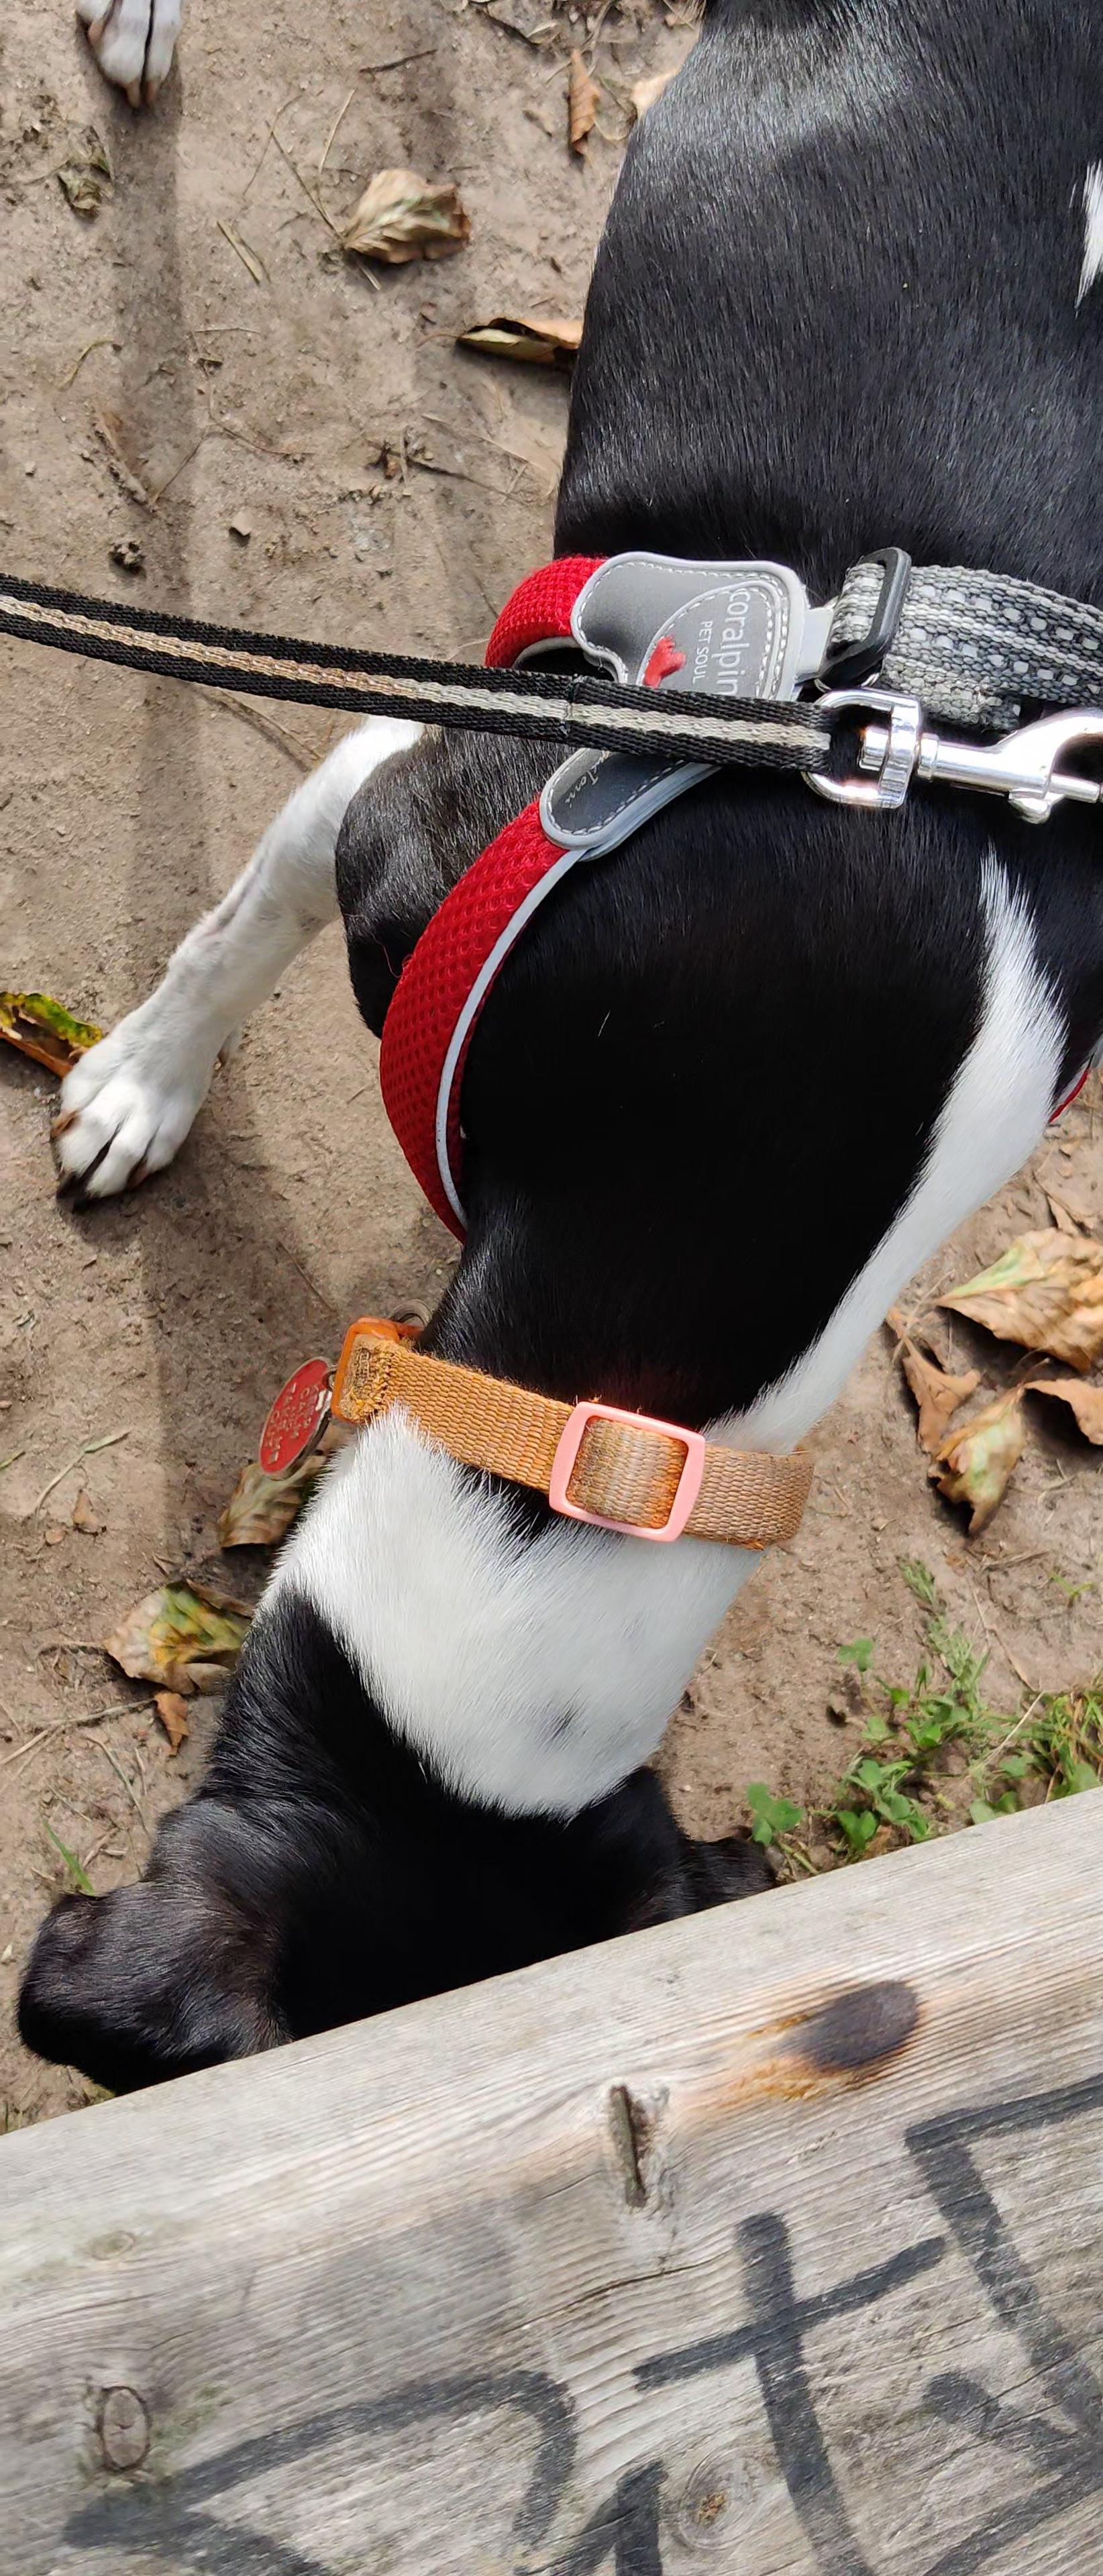Dog: (15, 0, 1103, 2108)
